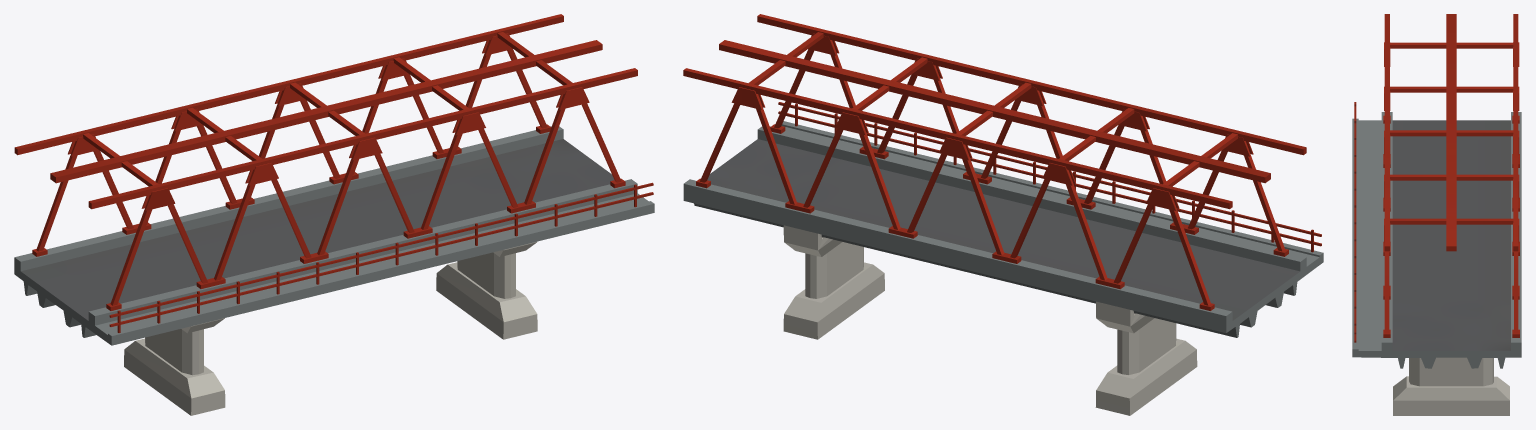
Rendered from Bridge.fbx.
3 views of the same model, side by side, from view 1: azimuth 30°, elevation 25°; view 2: azimuth 150°, elevation 25°; view 3: azimuth 270°, elevation 25° (orthographic). The views are drawn at different scales.
Parts seen in each view (by area): view 1: Bridge; view 2: Bridge; view 3: Bridge.
Boxes of the visible parts, x1,y1,x2,y2 form: Bridge: (14,14,654,415); Bridge: (683,14,1323,415); Bridge: (1352,14,1521,415).
Size of the model in its own units: 3.6 by 1.52 by 1.11.
Materials: 1 (1 with a texture image).
